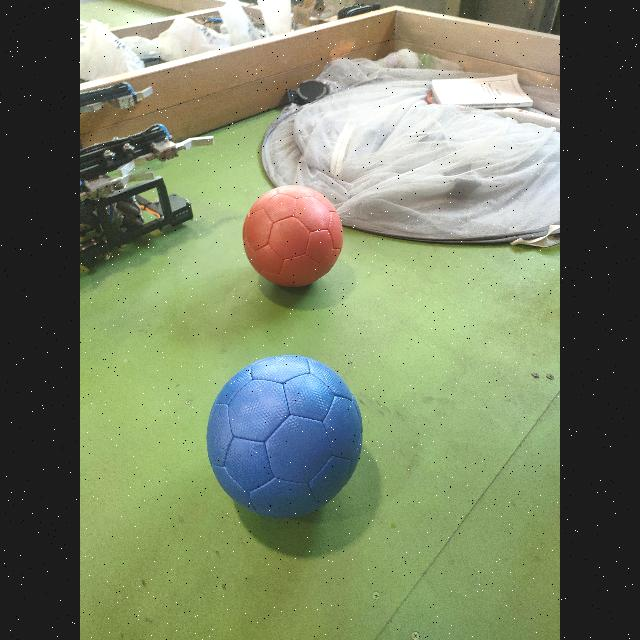B: (206, 355, 364, 523)
R: (242, 186, 344, 291)
